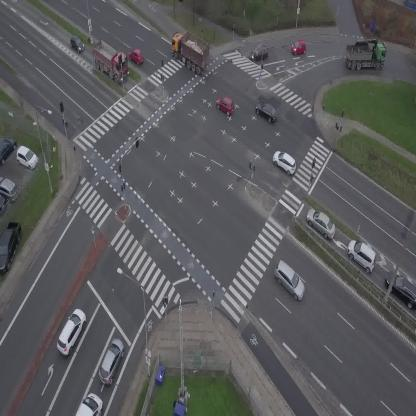car: (51, 306, 90, 357), (268, 258, 312, 302), (94, 336, 128, 387), (342, 236, 383, 275), (301, 205, 341, 242), (269, 148, 300, 176), (253, 99, 281, 124), (213, 93, 238, 117), (65, 33, 86, 55), (126, 46, 146, 67), (289, 39, 307, 56), (249, 45, 269, 60)
lorry: (162, 27, 218, 77), (83, 35, 137, 86), (346, 39, 388, 71), (75, 393, 103, 416)
